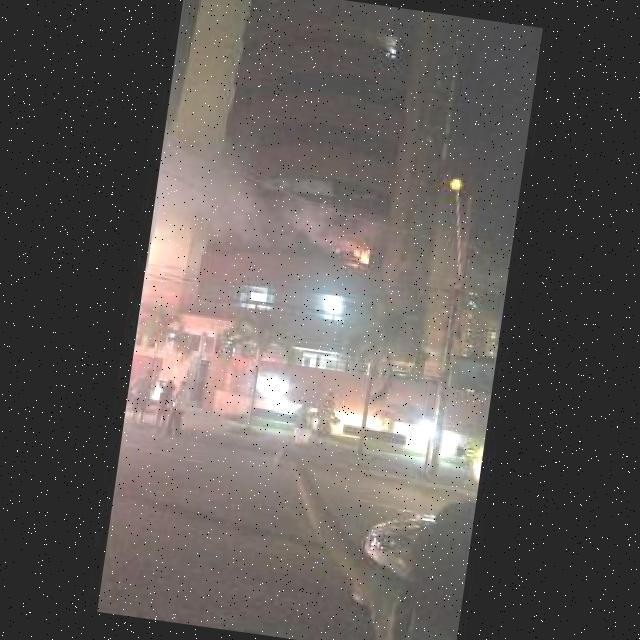Fire: (353, 248, 375, 265)
Smoke: (147, 140, 361, 257)
